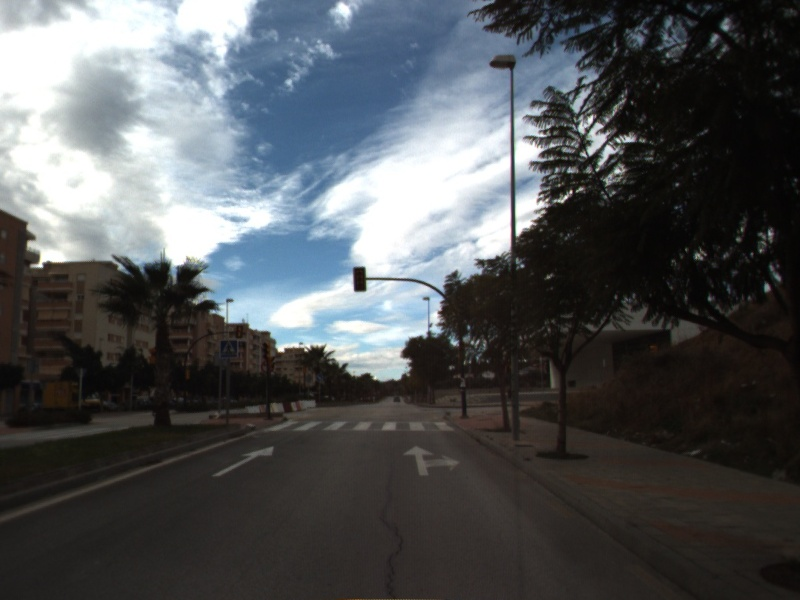STRAIGHT: (211, 444, 276, 478)
STRAIGHT_RIGHT: (401, 444, 462, 478)
